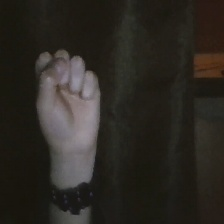S: (25, 41, 112, 163)
